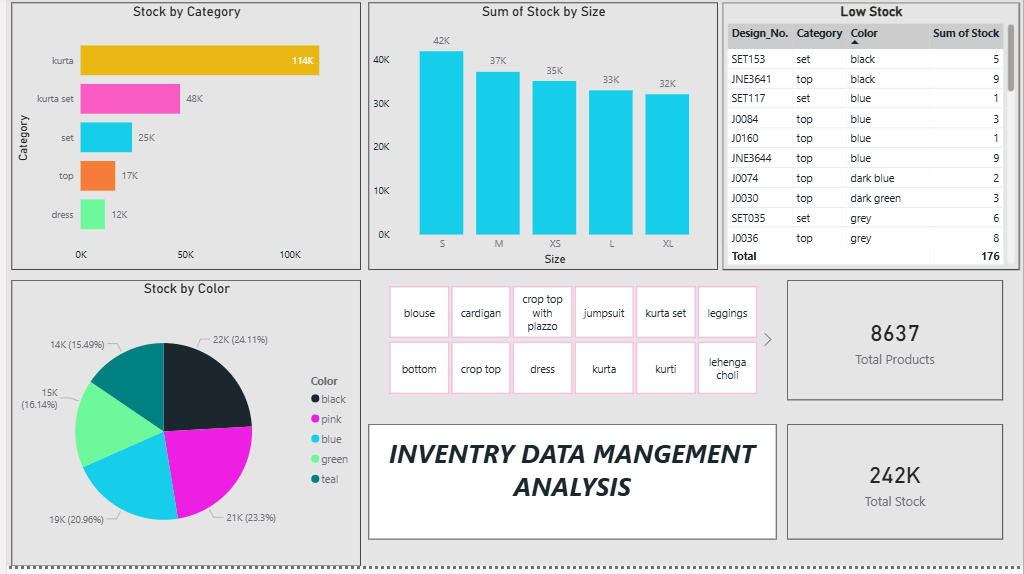

The page's visual inventory and layout, read from the dashboard file:
{"tool":"powerbi","page":{"name":"Page 1","canvas":[1280,720],"ordinal":0},"visuals":[{"type":"clusteredBarChart","title":"Stock by Category","fields":{"Category":["cleaned_data.Category"],"Y":["Sum(cleaned_data.Stock)"]},"box":[5.7,9.4,440.3,336.4],"z":0},{"type":"pieChart","title":"Stock by Color","fields":{"Category":["cleaned_data.Color"],"Y":["Sum(cleaned_data.Stock)"]},"box":[5.7,359.1,440.3,360.9],"z":1000},{"type":"columnChart","fields":{"Category":["cleaned_data.Size"],"Y":["Sum(cleaned_data.Stock)"]},"box":[455.4,9.4,440.3,336.4],"z":2000},{"type":"tableEx","title":"Low Stock","fields":{"Values":["cleaned_data.Design_No.","cleaned_data.Category","cleaned_data.Color","Sum(cleaned_data.Stock)"]},"box":[901.4,9.4,374.2,336.4],"z":3000},{"type":"card","fields":{"Values":["Sum(cleaned_data.Stock)"]},"box":[982.7,540.5,272.1,145.5],"z":4000},{"type":"card","fields":{"Values":["Count(cleaned_data.SKU_Code)"]},"box":[982.7,359.1,272.1,151.2],"z":5000},{"type":"slicer","fields":{"Values":["cleaned_data.Category"]},"box":[455.4,359.1,514,151.2],"z":6000},{"type":"textbox","box":[455.4,540.5,514,145.5],"z":7000}]}

Visuals, with their boxes in screenshot pixels (x1, y1, x2, y2), scaled from the page's 1280x720 canvas onto the 1024x574 screenshot:
"Stock by Category" clusteredBarChart: box=[5, 7, 357, 276]
"Stock by Color" pieChart: box=[5, 286, 357, 573]
columnChart - cleaned_data.Size x Sum(cleaned_data.Stock): box=[364, 7, 717, 276]
"Low Stock" tableEx: box=[721, 7, 1020, 276]
card - Sum(cleaned_data.Stock): box=[786, 431, 1004, 547]
card - Count(cleaned_data.SKU_Code): box=[786, 286, 1004, 407]
slicer - cleaned_data.Category: box=[364, 286, 776, 407]
textbox: box=[364, 431, 776, 547]
